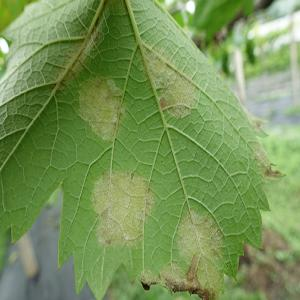Folha: (0, 0, 285, 298)
Fungo: (142, 215, 230, 300), (90, 168, 157, 250), (139, 41, 197, 128), (77, 74, 125, 142), (158, 96, 166, 110)
